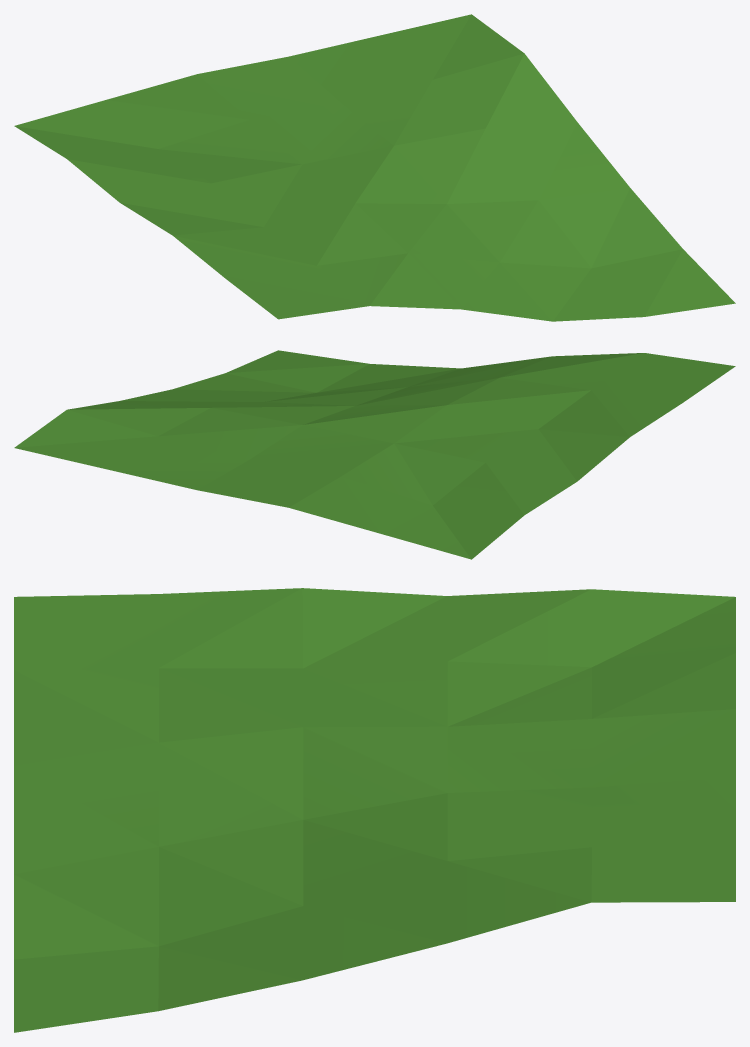
File: terrains_terrain-plane-valley4.fbx
3 renders of one model, top to bottom at view 1: azimuth 30°, elevation 25°; view 2: azimuth 150°, elevation 25°; view 3: azimuth 270°, elevation 25°, orthographic. The views are drawn at different scales.
Visible parts, largest first — view 1: terrains_terrain_plane_valley4; view 2: terrains_terrain_plane_valley4; view 3: terrains_terrain_plane_valley4.
Part boxes in pixels (<box>): terrains_terrain_plane_valley4: <box>14,14,735,321</box>; terrains_terrain_plane_valley4: <box>14,350,735,559</box>; terrains_terrain_plane_valley4: <box>14,588,735,1032</box>.
Size of the model in its own units: 200 by 43 by 200.
